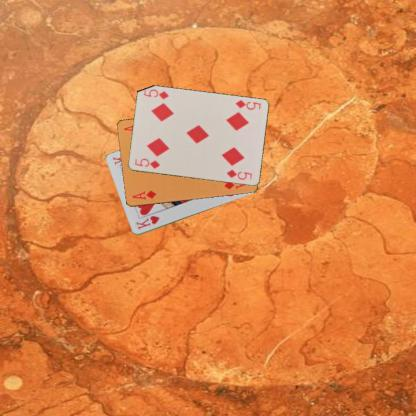5d: (132, 156, 161, 170), (232, 98, 262, 111)
Ad: (129, 188, 158, 202)
Kh: (134, 213, 160, 231)
